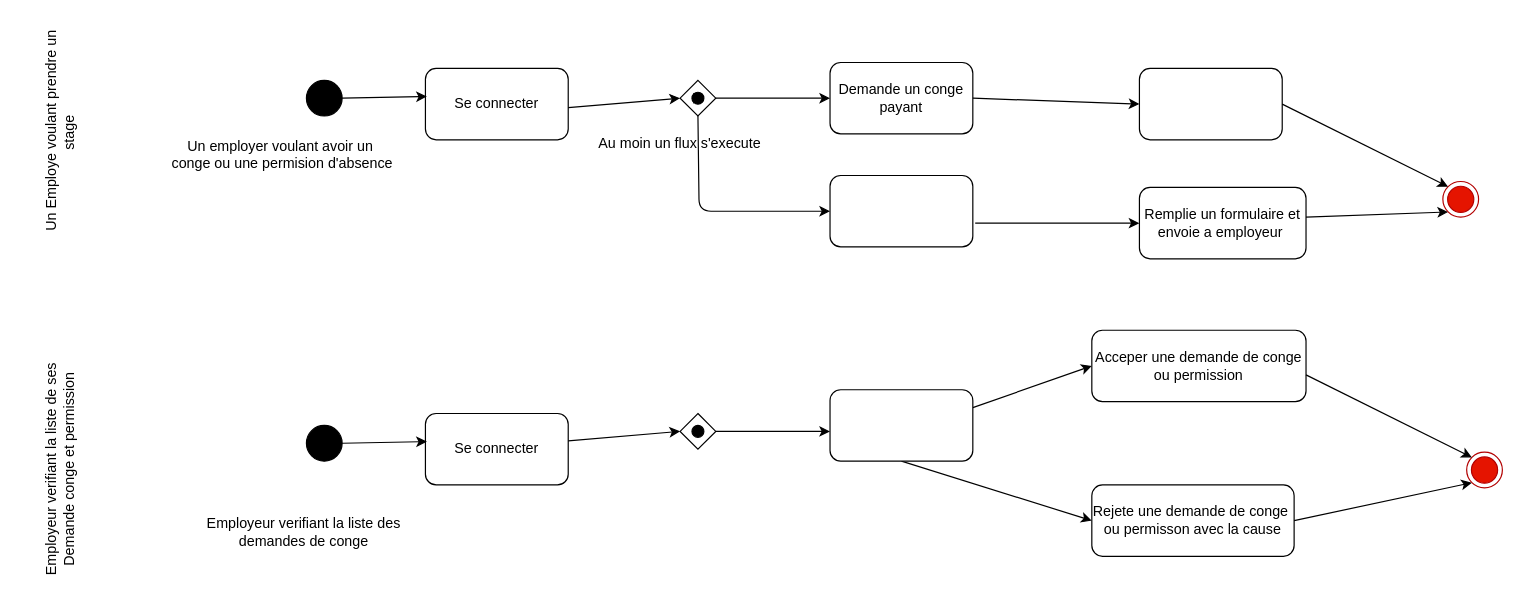
Some shapes in this 1523 by 615 pixel diagram are drawn without their labels. Here are the shapes that lost their labels. From the top down, the box of each, then its label:
(1138, 67, 1282, 140): Verifie s'il son solde de jour conge payant autorise
(829, 174, 973, 247): Demande une absence pour une urgenge
(829, 389, 973, 461): Visite sa liste
